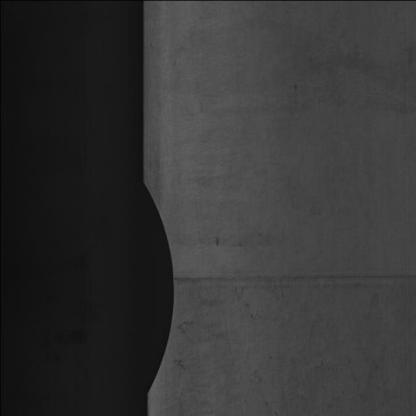crescent_gap: (126, 172, 182, 402)
welding_line: (166, 253, 416, 286)
